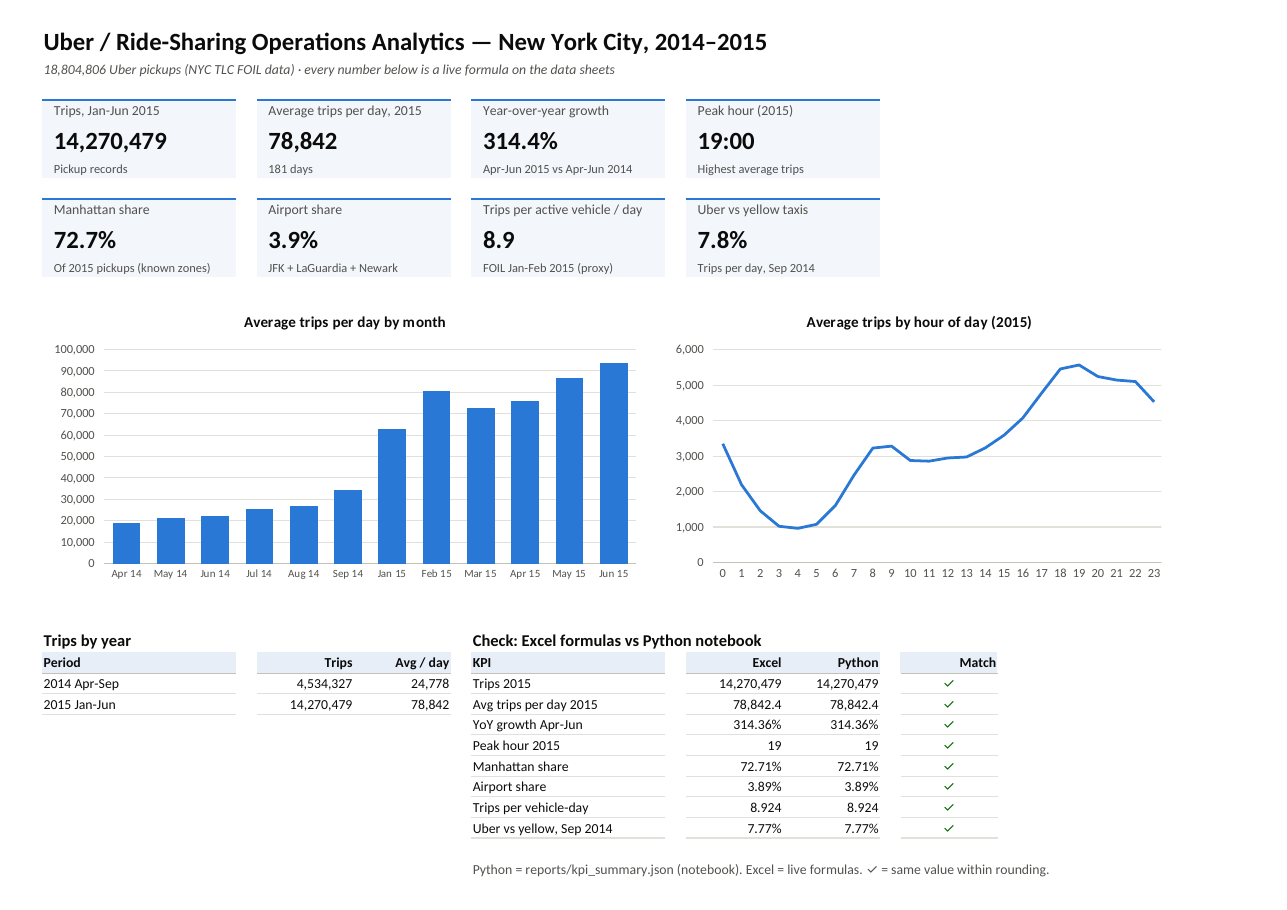

What the dashboard file says about the page in this screenshot:
{"tool":"powerbi","page":{"name":"Executive Overview","canvas":[1280,720],"ordinal":0},"visuals":[{"type":"textbox","box":[16,8,976,56],"z":1000},{"type":"slicer","fields":{"Values":["Date.Period"]},"box":[1000,10,128,54],"z":2000},{"type":"slicer","fields":{"Values":["Date.Day Type"]},"box":[1136,10,128,54],"z":3000},{"type":"card","fields":{"Values":["_Measures.Trips 2015"]},"box":[16,72,171.4,88],"z":4000},{"type":"card","fields":{"Values":["_Measures.Avg Trips per Day 2015"]},"box":[195.4,72,171.4,88],"z":5000},{"type":"card","fields":{"Values":["_Measures.YoY Growth Apr-Jun %"]},"box":[374.9,72,171.4,88],"z":6000},{"type":"card","fields":{"Values":["_Measures.Peak Hour 2015"]},"box":[554.3,72,171.4,88],"z":7000},{"type":"card","fields":{"Values":["_Measures.Manhattan Share %"]},"box":[733.7,72,171.4,88],"z":8000},{"type":"card","fields":{"Values":["_Measures.Trips per Active Vehicle per Day"]},"box":[913.1,72,171.4,88],"z":9000},{"type":"card","fields":{"Values":["_Measures.Uber vs Yellow Sep 2014"]},"box":[1092.6,72,171.4,88],"z":10000},{"type":"clusteredColumnChart","title":"Average trips per day by month","fields":{"Category":["Date.Month"],"Y":["_Measures.Avg Trips per Day"]},"box":[16,170,812,262],"z":11000},{"type":"clusteredColumnChart","title":"Trips by calendar month: 2014 vs 2015","fields":{"Category":["Date.Month Name"],"Y":["_Measures.Trips 2014","_Measures.Trips 2015"]},"box":[836,170,428,262],"z":12000},{"type":"clusteredBarChart","title":"Share of trips by dispatching base","fields":{"Category":["dim_base.base_name"],"Series":["Date.Year"],"Y":["_Measures.Base Share %"]},"box":[16,440,620,264],"z":13000},{"type":"clusteredBarChart","title":"Pickups by service area, Jan–Jun 2015","fields":{"Category":["dim_zone.service_area"],"Y":["_Measures.Zone Trips (Known)"]},"box":[644,440,620,264],"z":14000}]}

Visuals, with their boxes on the page's 1280x720 design canvas (x1, y1, x2, y2). These are canvas units, not pixel positions in the 1287x910 screenshot, which may show the page scaled, cropped or inside an application window:
textbox: BBox(16, 8, 992, 64)
slicer - Date.Period: BBox(1000, 10, 1128, 64)
slicer - Date.Day Type: BBox(1136, 10, 1264, 64)
card - _Measures.Trips 2015: BBox(16, 72, 187, 160)
card - _Measures.Avg Trips per Day 2015: BBox(195, 72, 367, 160)
card - _Measures.YoY Growth Apr-Jun %: BBox(375, 72, 546, 160)
card - _Measures.Peak Hour 2015: BBox(554, 72, 726, 160)
card - _Measures.Manhattan Share %: BBox(734, 72, 905, 160)
card - _Measures.Trips per Active Vehicle per Day: BBox(913, 72, 1084, 160)
card - _Measures.Uber vs Yellow Sep 2014: BBox(1093, 72, 1264, 160)
"Average trips per day by month" clusteredColumnChart: BBox(16, 170, 828, 432)
"Trips by calendar month: 2014 vs 2015" clusteredColumnChart: BBox(836, 170, 1264, 432)
"Share of trips by dispatching base" clusteredBarChart: BBox(16, 440, 636, 704)
"Pickups by service area, Jan–Jun 2015" clusteredBarChart: BBox(644, 440, 1264, 704)
